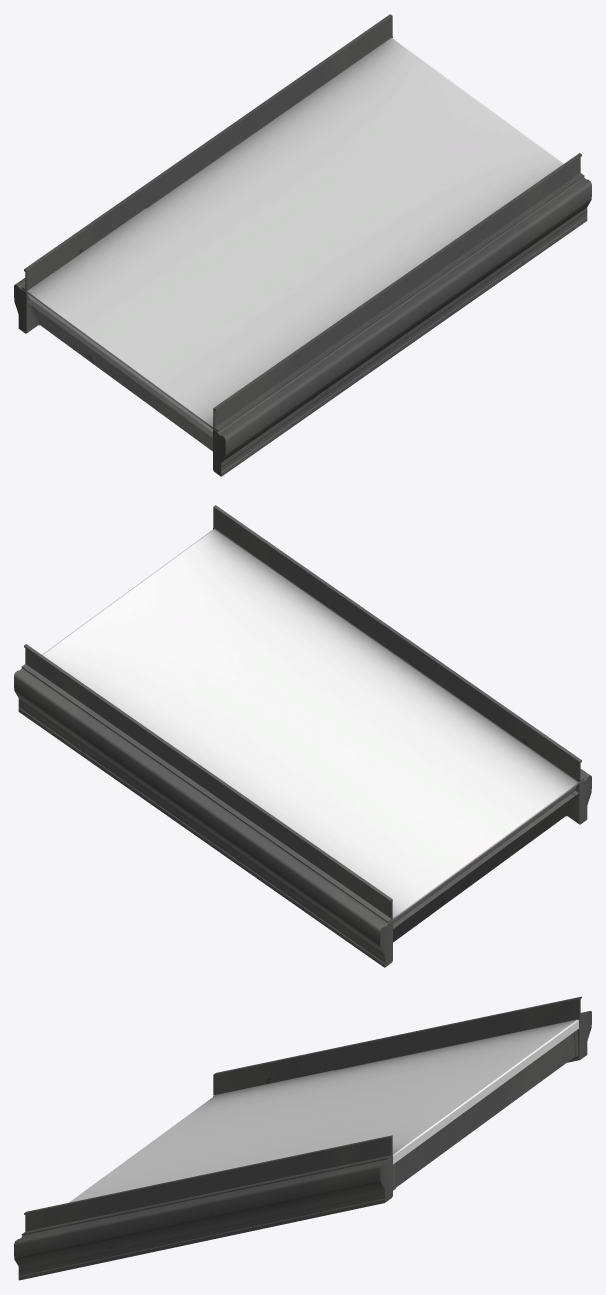
Rendered from ChuteConveyor.glb.
3 views of the same model, one above another, from view 1: azimuth 30°, elevation 25°; view 2: azimuth 150°, elevation 25°; view 3: azimuth 330°, elevation 25° (orthographic).
Visible parts, largest first — view 1: ConveyorBase, ConveyorBelt; view 2: ConveyorBase, ConveyorBelt; view 3: ConveyorBelt, ConveyorBase.
Part boxes in pixels (bbox=[...]): ConveyorBase: bbox=[27, 38, 563, 432]; ConveyorBelt: bbox=[14, 14, 591, 476]; ConveyorBase: bbox=[42, 529, 578, 923]; ConveyorBelt: bbox=[14, 505, 591, 967]; ConveyorBelt: bbox=[14, 996, 591, 1280]; ConveyorBase: bbox=[69, 1019, 578, 1202].
Size of the model in its own units: 1.12 by 0.6695 by 1.12.
Materials: 2 (2 with a texture image).
